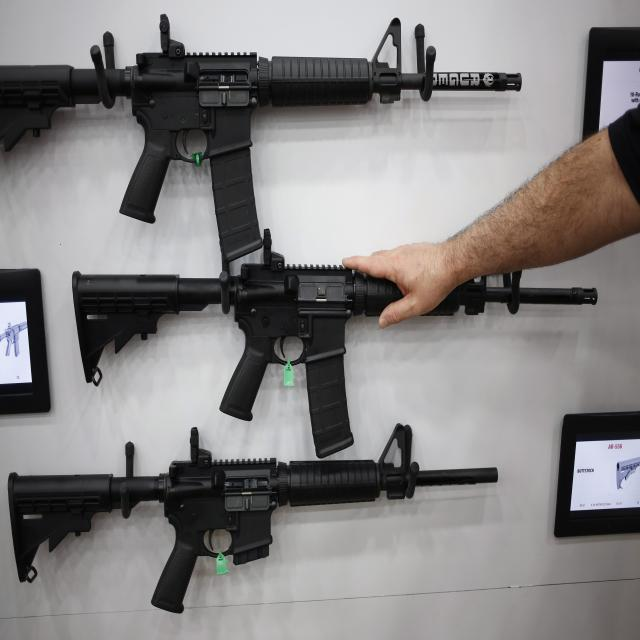weapon: (0, 9, 540, 264), (68, 247, 601, 460), (5, 419, 505, 621)
